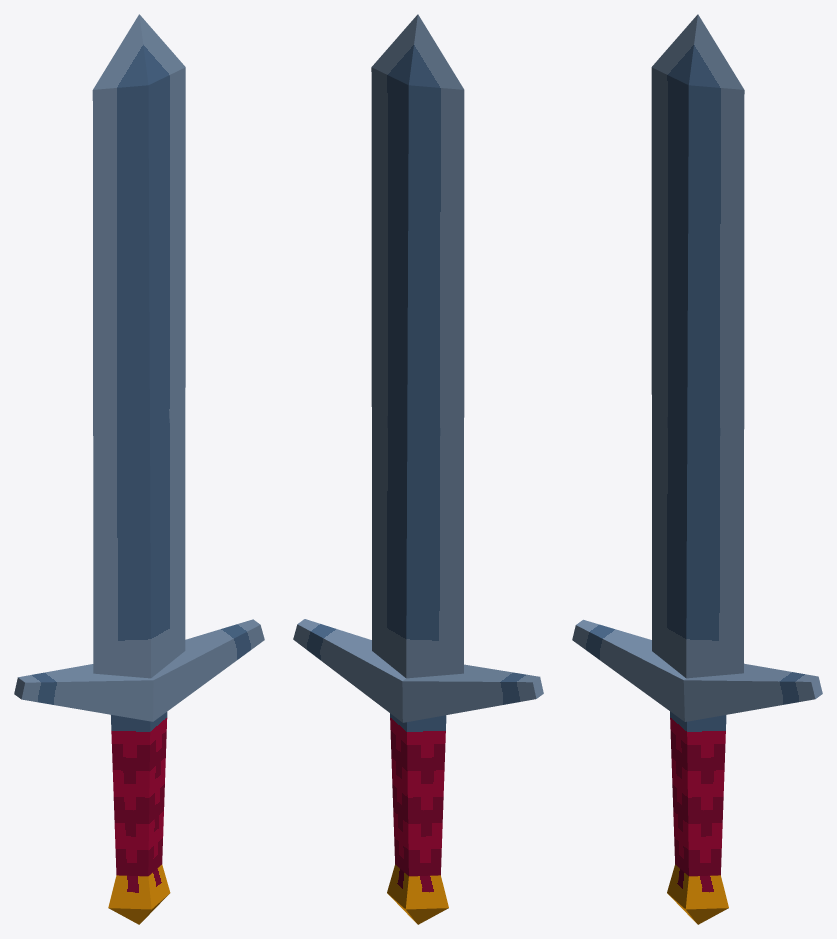
File: sword.glb
3 views of the same model, side by side, from view 1: azimuth 30°, elevation 25°; view 2: azimuth 150°, elevation 25°; view 3: azimuth 330°, elevation 25° (orthographic).
Visible parts, largest first — view 1: Sword; view 2: Sword; view 3: Sword.
Boxes of the visible parts, x1,y1,x2,y2 form: Sword: (14, 14, 264, 924); Sword: (293, 14, 543, 924); Sword: (572, 14, 822, 924).
Size of the model in its own units: 2.32 by 8.3 by 0.4928.
Materials: 1 (1 with a texture image).
